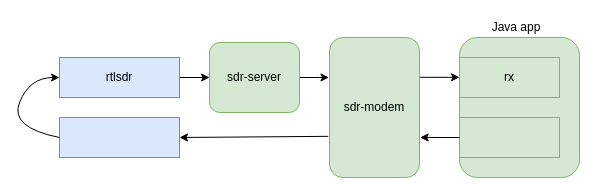
The diagram is 597 pixels wide and 195 high, and some of its shapes have lost their labels. The centre of each missing label's shape, as x and y in pixels:
"plutosdr" belongs at point 119,137.
"tx" belongs at point 509,137.
